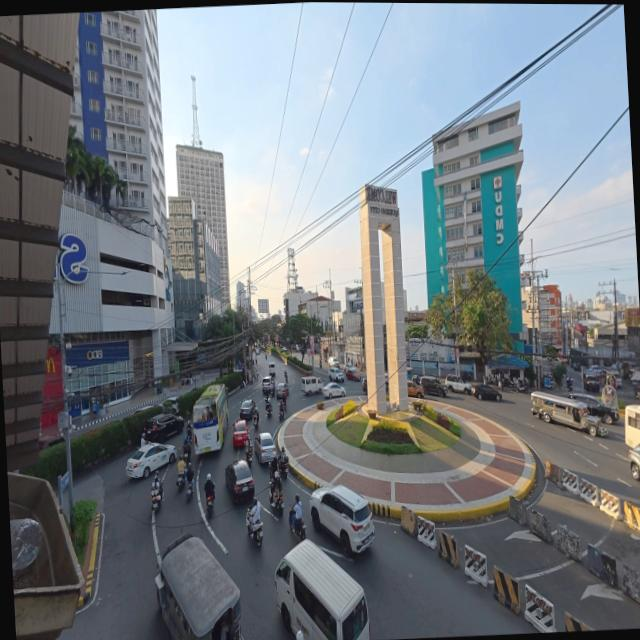Jeepneys: (155, 534, 241, 639), (531, 392, 606, 435)
bus: (192, 384, 230, 454), (624, 405, 639, 448)
car: (309, 485, 373, 558), (126, 444, 175, 478), (567, 393, 618, 424), (225, 460, 254, 501), (144, 413, 183, 442), (253, 433, 276, 463), (444, 374, 471, 395), (419, 376, 445, 397), (472, 384, 501, 401), (232, 420, 248, 448), (322, 382, 345, 399), (38, 435, 64, 450), (628, 446, 639, 481), (161, 396, 178, 414), (407, 380, 423, 399), (582, 376, 600, 392), (239, 400, 252, 420), (606, 372, 621, 389), (261, 377, 274, 396), (328, 367, 343, 383), (344, 367, 360, 381), (275, 383, 288, 399), (132, 405, 152, 415), (327, 356, 338, 367), (634, 381, 639, 399), (361, 379, 367, 393), (590, 365, 601, 372), (282, 346, 288, 353), (254, 348, 259, 355), (295, 344, 300, 351), (638, 395, 639, 402)
motorcycle: (245, 510, 262, 547), (288, 506, 305, 540), (269, 491, 283, 516), (182, 443, 192, 464), (151, 489, 160, 512), (514, 379, 527, 393), (205, 496, 213, 517), (280, 458, 288, 478), (176, 471, 184, 490), (252, 411, 260, 430), (245, 447, 252, 467), (186, 480, 192, 500), (566, 379, 574, 392), (265, 403, 271, 418), (278, 407, 284, 421), (284, 372, 287, 384)
vans: (274, 540, 369, 639), (301, 377, 322, 394), (268, 362, 275, 377)
